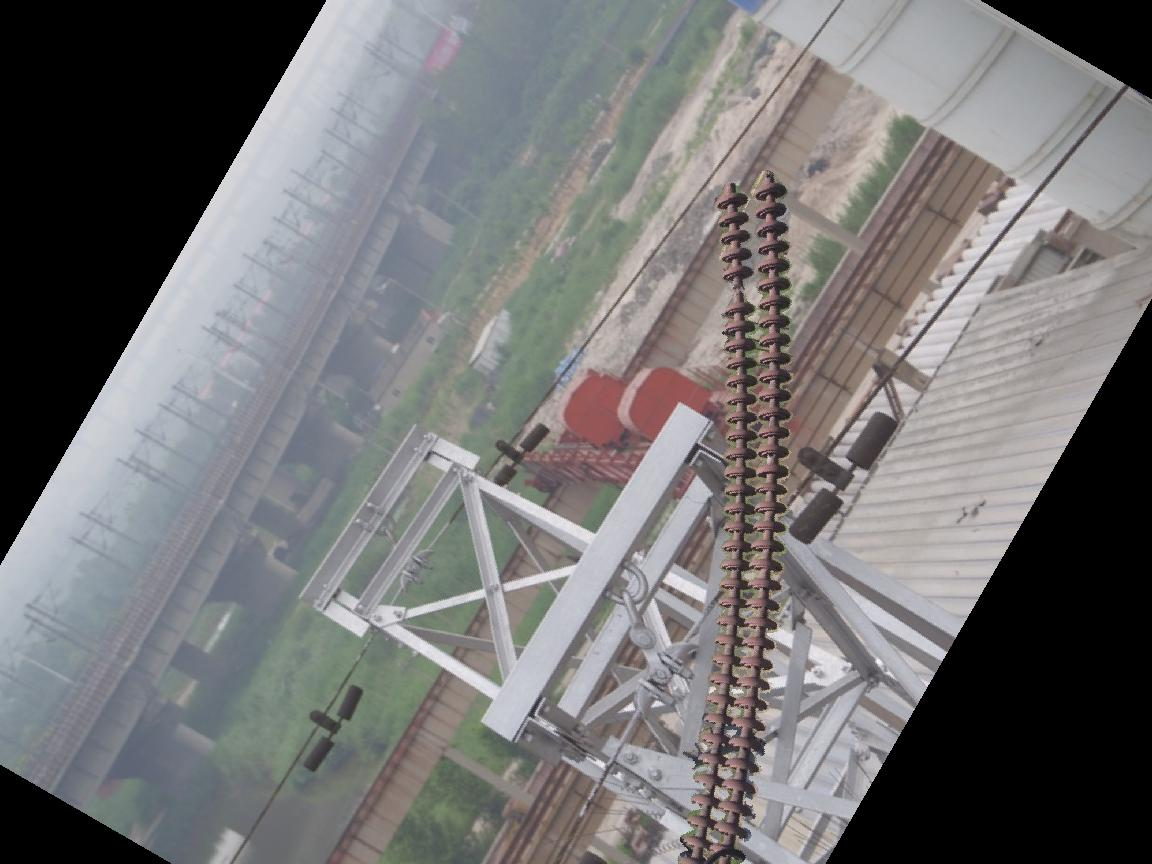insulator: (667, 171, 801, 864)
insulator_stringdrop: (715, 262, 758, 320)
